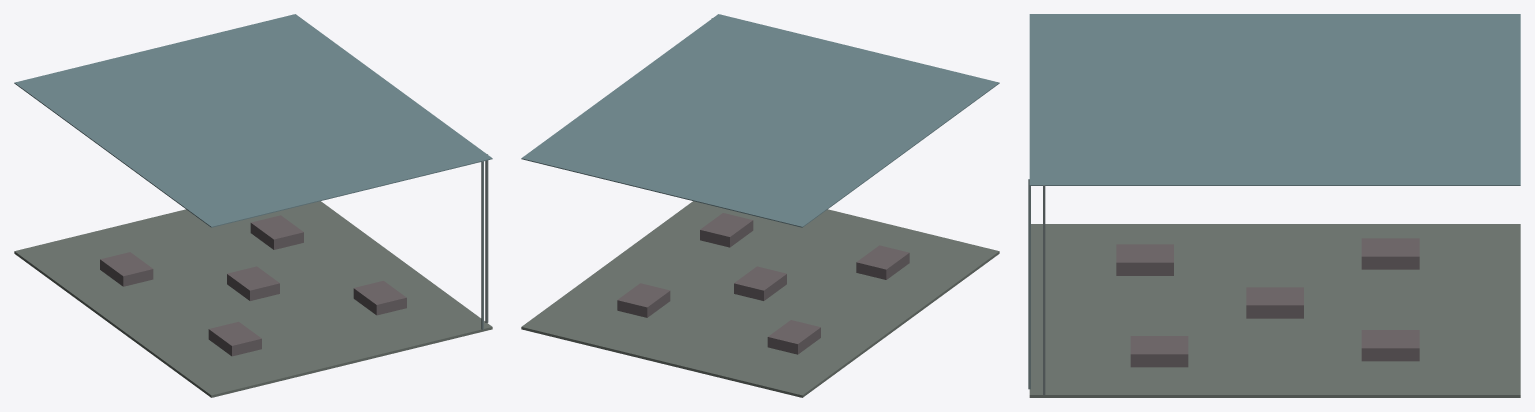
Rendered from special_floor13_conservatory.glb.
3 renders of one model, left to right at view 1: azimuth 30°, elevation 25°; view 2: azimuth 150°, elevation 25°; view 3: azimuth 270°, elevation 25°, orthographic. The views are drawn at different scales.
Visible parts, largest first — view 1: glass-roof, moss-tiled-floor, abandoned-botanical-bed-4, abandoned-botanical-bed-1, abandoned-botanical-bed-3, abandoned-botanical-bed-2, abandoned-botanical-bed-0, iron-frame, glass-rib; view 2: glass-roof, moss-tiled-floor, abandoned-botanical-bed-4, abandoned-botanical-bed-1, abandoned-botanical-bed-2, abandoned-botanical-bed-3, abandoned-botanical-bed-0; view 3: glass-roof, moss-tiled-floor, abandoned-botanical-bed-2, abandoned-botanical-bed-3, abandoned-botanical-bed-1, abandoned-botanical-bed-0, abandoned-botanical-bed-4, iron-frame, glass-rib.
Boxes of the visible parts, x1,y1,x2,y2 form: glass-roof: (14, 14, 492, 227); moss-tiled-floor: (14, 201, 492, 397); abandoned-botanical-bed-4: (208, 321, 261, 356); abandoned-botanical-bed-1: (353, 281, 406, 315); abandoned-botanical-bed-3: (250, 215, 303, 249); abandoned-botanical-bed-2: (100, 252, 153, 286); abandoned-botanical-bed-0: (227, 266, 279, 300); iron-frame: (485, 154, 488, 322); glass-rib: (481, 161, 483, 329); glass-roof: (521, 14, 999, 227); moss-tiled-floor: (521, 201, 999, 397); abandoned-botanical-bed-4: (856, 245, 909, 279); abandoned-botanical-bed-1: (700, 213, 753, 247); abandoned-botanical-bed-2: (767, 320, 820, 354); abandoned-botanical-bed-3: (617, 283, 670, 317); abandoned-botanical-bed-0: (734, 266, 786, 300); glass-roof: (1029, 14, 1520, 185); moss-tiled-floor: (1029, 224, 1520, 397); abandoned-botanical-bed-2: (1361, 238, 1419, 269); abandoned-botanical-bed-3: (1361, 330, 1419, 361); abandoned-botanical-bed-1: (1130, 336, 1188, 367); abandoned-botanical-bed-0: (1246, 287, 1303, 318); abandoned-botanical-bed-4: (1116, 244, 1173, 275); iron-frame: (1043, 185, 1045, 395); glass-rib: (1028, 179, 1030, 389).
Size of the model in its own units: 28.1 by 16.29 by 34.08.
